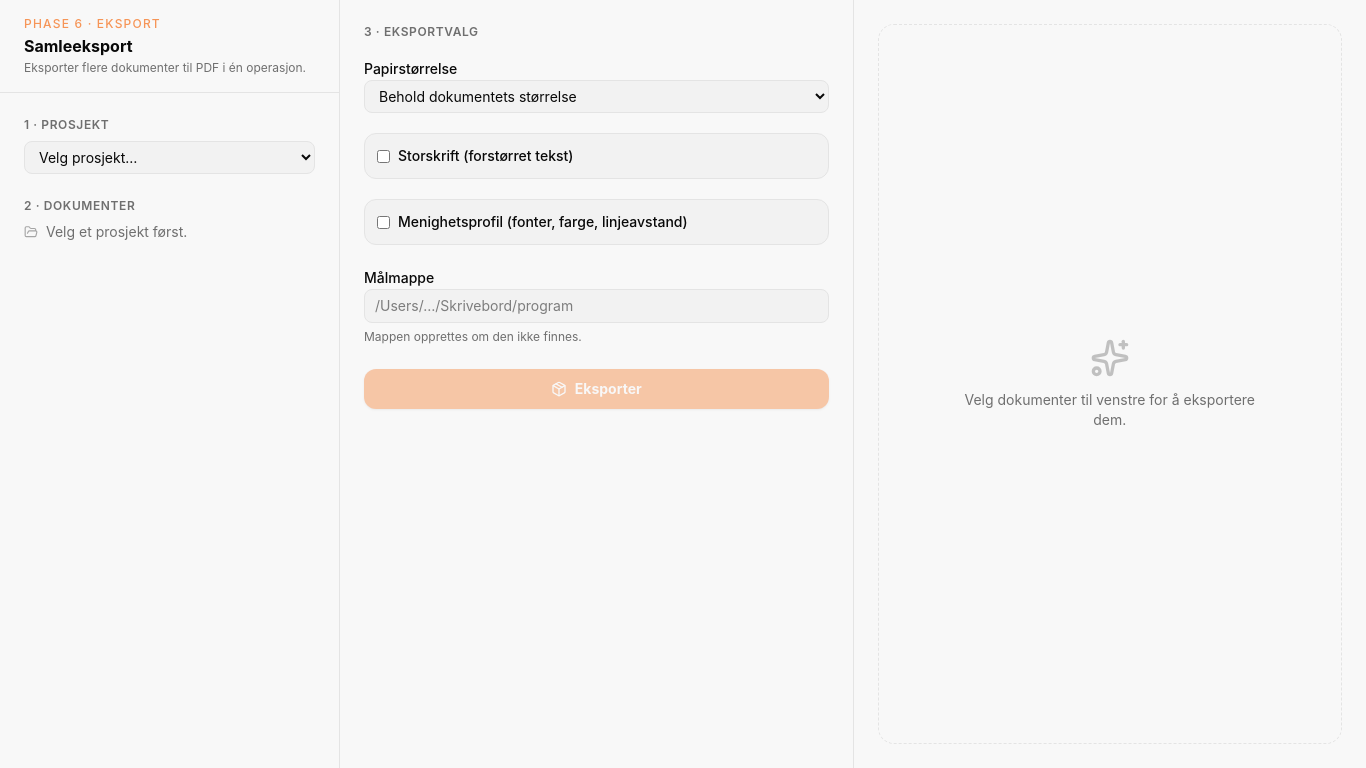
Scenario: ExportPage › tracks multi-select state and reflects the count
The image size is (1366, 768).
Select "Sommer 2026" in the dropdown named "Velg prosjekt" at (170, 158), box [24,141,315,174]
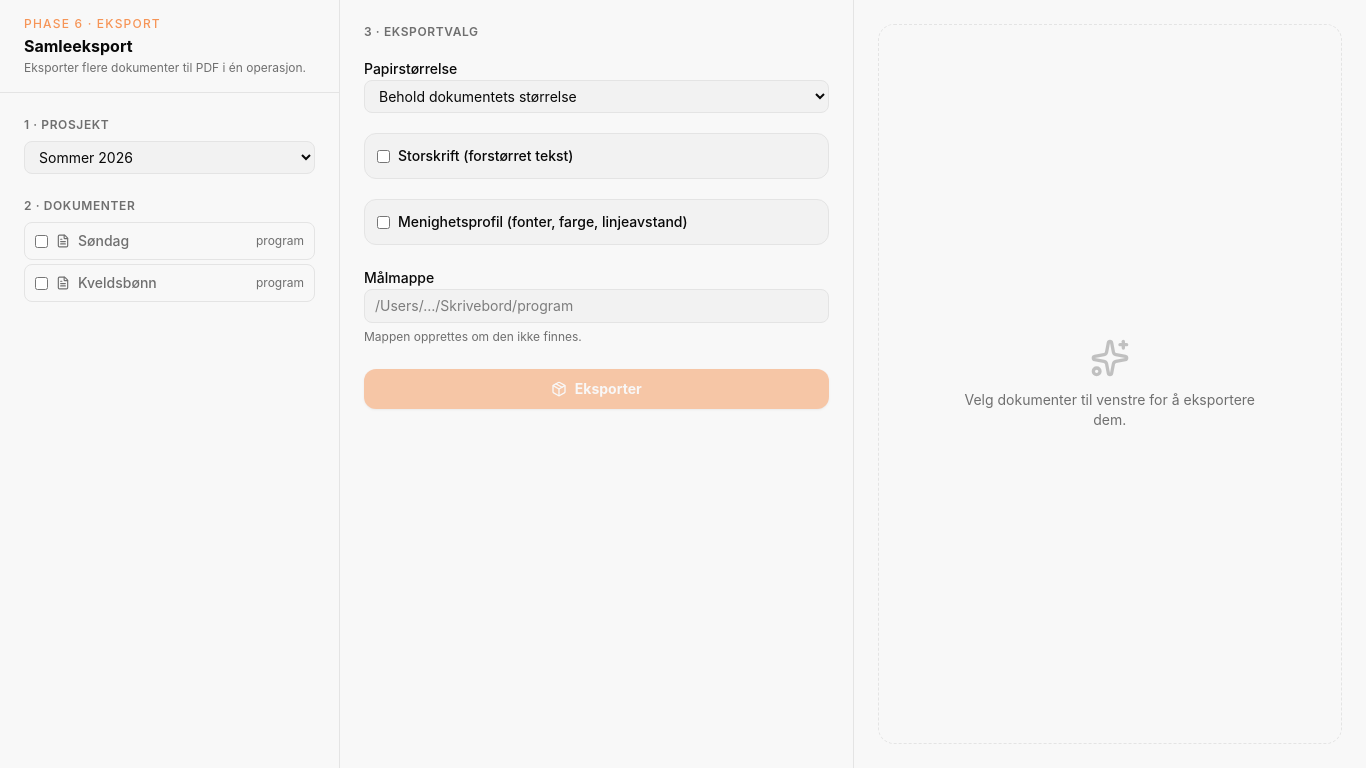
Now the checkbox named "Velg Søndag" is shown
Click the checkbox named "Velg Søndag" at (42, 241), box [35,234,48,248]
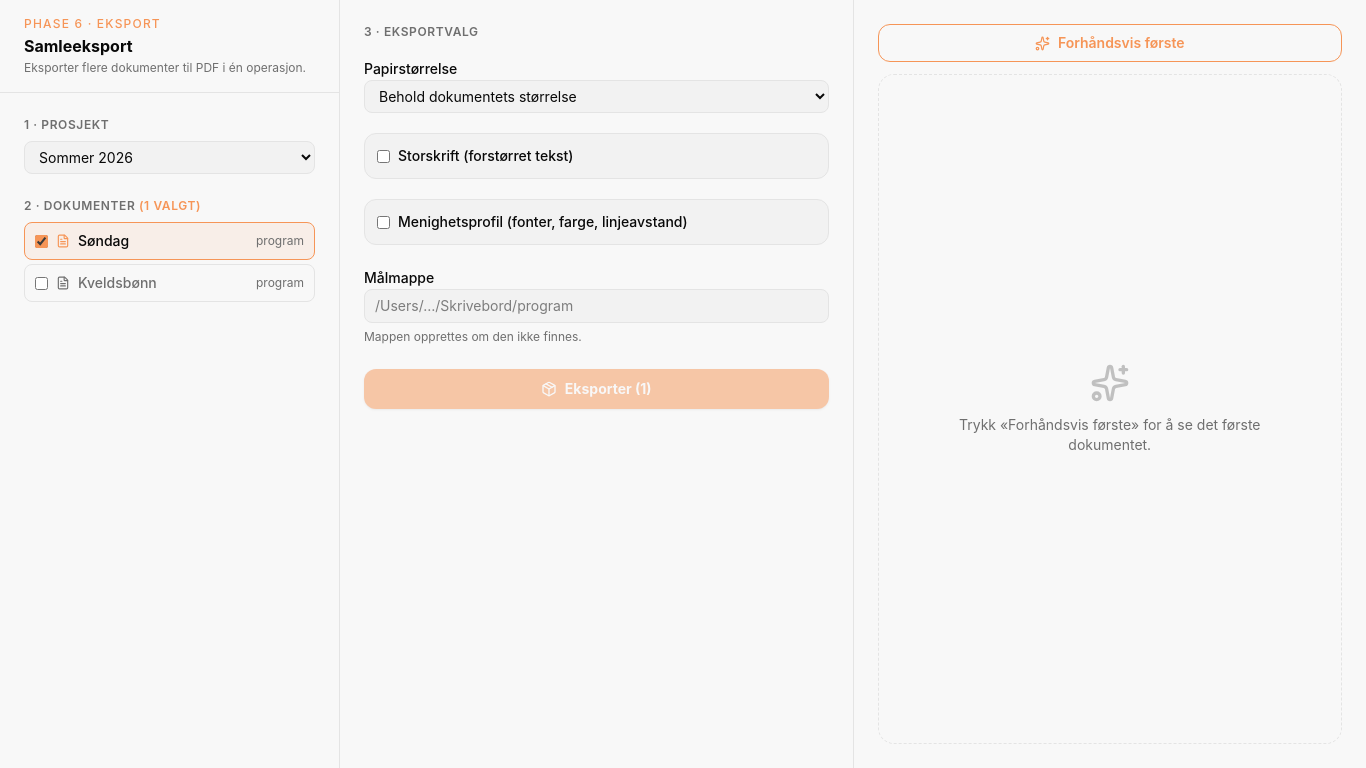
Click the checkbox named "Velg Kveldsbønn" at (42, 283), box [35,276,48,290]
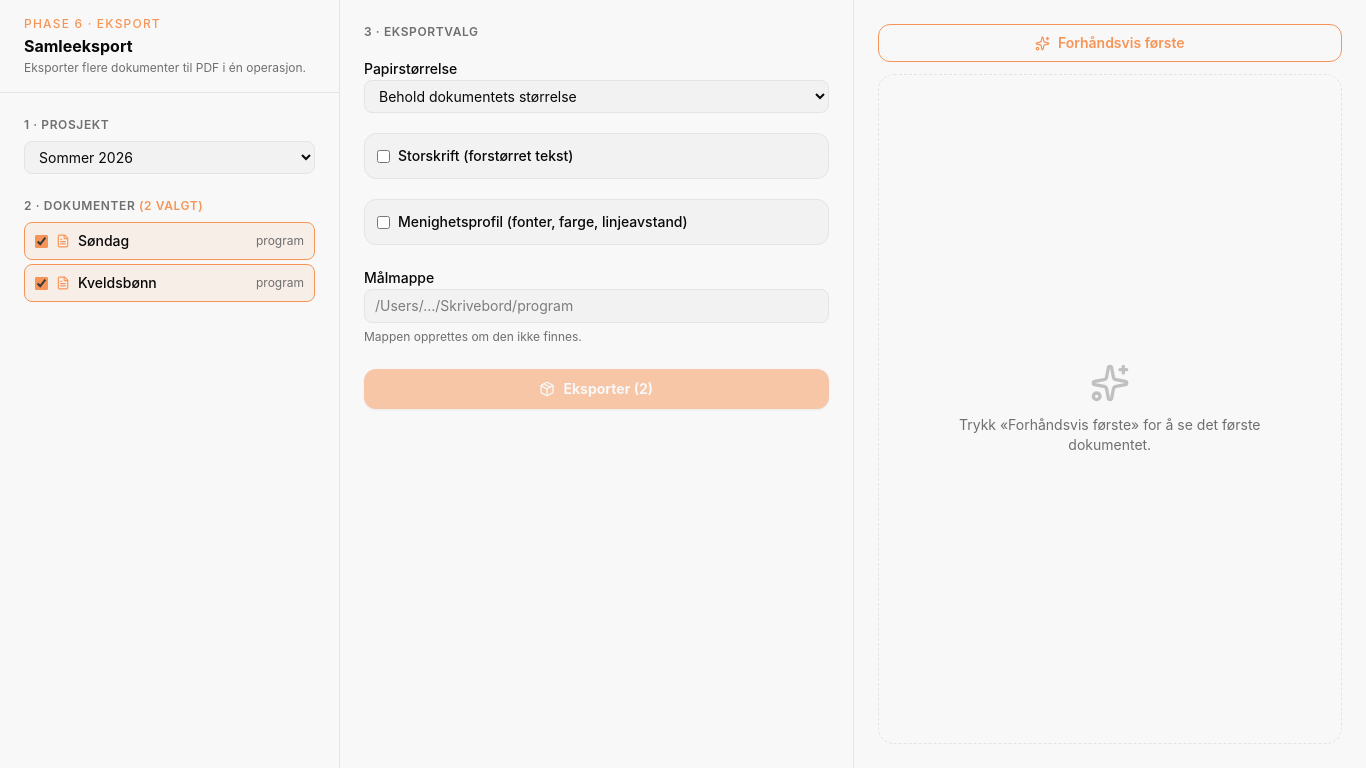
Now the text "(2 valgt)" is shown, box [139,198,203,213]
Click the checkbox named "Velg Kveldsbønn" at (42, 283), box [35,276,48,290]
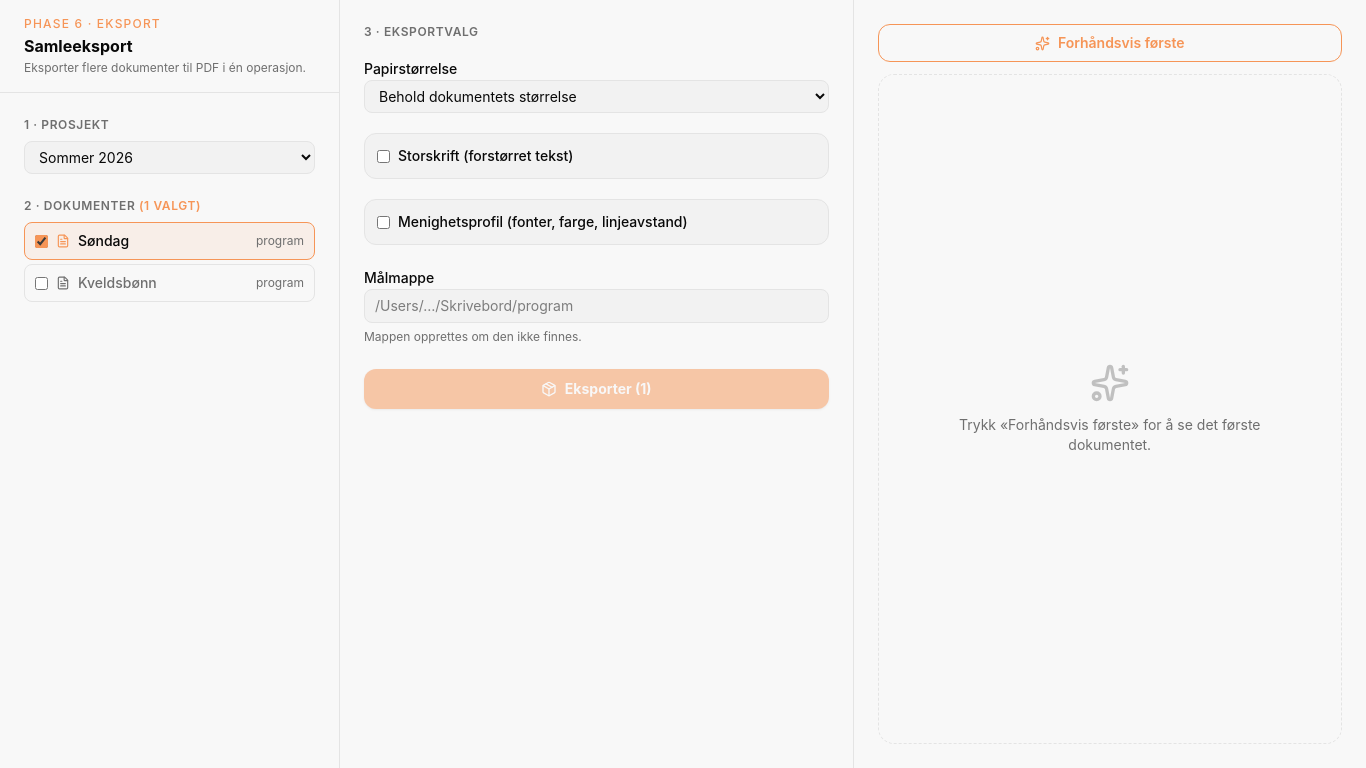
Now the text "(1 valgt)" is shown, box [139,198,201,213]
